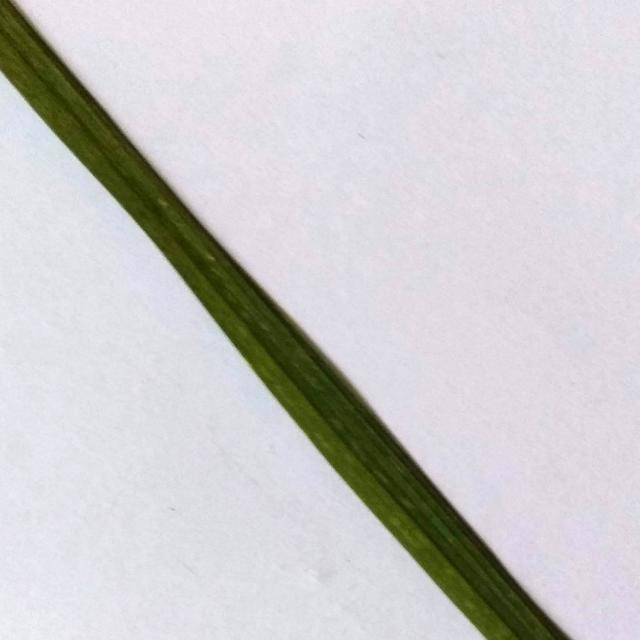Rice_Healthy: (0, 0, 571, 640)
